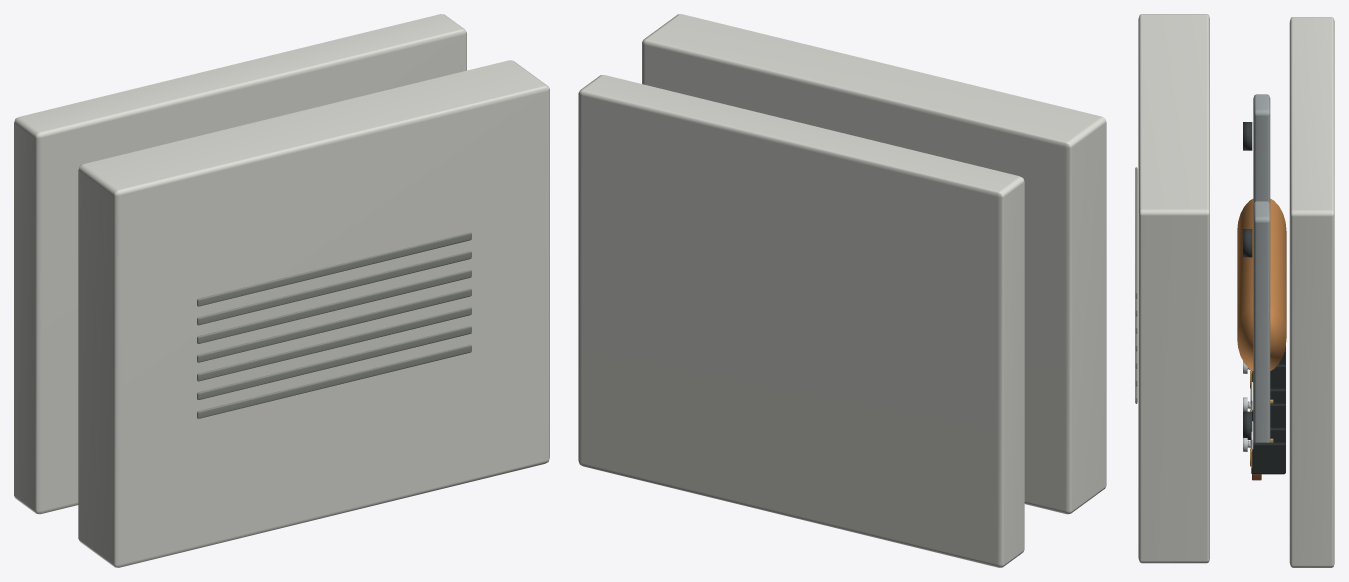
File: callchime_default.glb
The picture shows the model from 3 angles, left to right: view 1: azimuth 30°, elevation 25°; view 2: azimuth 150°, elevation 25°; view 3: azimuth 270°, elevation 25°; orthographic projection. The views are drawn at different scales.
Visible parts, largest first — view 1: node-15, node-4, node-14 · Original material.004; view 2: node-4, node-15; view 3: node-15, node-4, node-3 · Original material.001, node-13, detail:terminal-clamp:REAR · Detail moulded engineering poly, node-3 · Original material.002, node-14 · Original material.004, detail:terminal-clamp:FRONT · Detail moulded engineering pol, detail:terminal-clamp:AC2 · Detail moulded engineering polym.
Part boxes in pixels (x1,y1,x2,y2): node-15: [78, 60, 549, 567]; node-4: [14, 14, 466, 514]; node-14 · Original material.004: [197, 232, 471, 418]; node-4: [578, 75, 1024, 567]; node-15: [642, 14, 1106, 514]; node-15: [1138, 14, 1209, 563]; node-4: [1289, 17, 1334, 567]; node-3 · Original material.001: [1253, 94, 1270, 442]; node-13: [1237, 198, 1286, 370]; detail:terminal-clamp:REAR · Detail moulded engineering poly: [1251, 427, 1285, 474]; node-3 · Original material.002: [1243, 122, 1252, 439]; node-14 · Original material.004: [1135, 167, 1137, 403]; detail:terminal-clamp:FRONT · Detail moulded engineering pol: [1252, 388, 1285, 428]; detail:terminal-clamp:AC2 · Detail moulded engineering polym: [1252, 350, 1285, 389].
Bounding box in the file's own units: 1.07 × 0.8977 × 0.4515.
